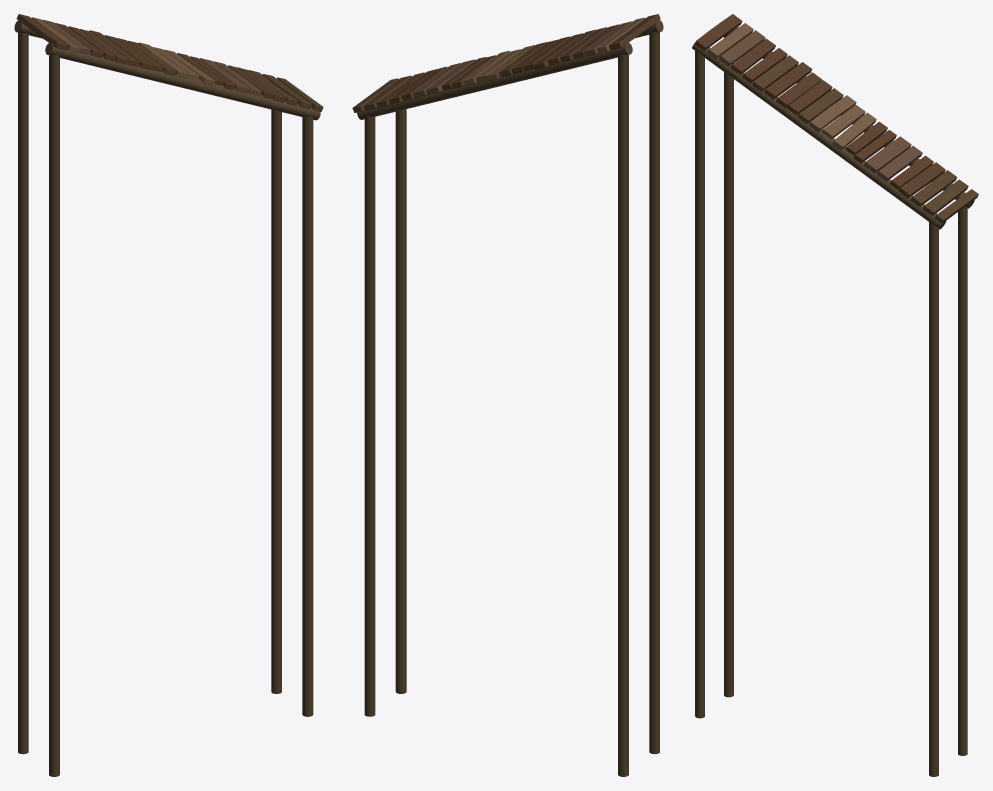
File: DownHillRamp (1).fbx
The picture shows the model from 3 angles, left to right: view 1: azimuth 30°, elevation 25°; view 2: azimuth 150°, elevation 25°; view 3: azimuth 330°, elevation 25°; orthographic projection. The views are drawn at different scales.
Parts seen in each view (by area): view 1: Cylinder.002, Planks; view 2: Cylinder.002, Planks; view 3: Cylinder.002, Planks.
Part boxes in pixels (x1,y1,x2,y2): Cylinder.002: (14, 20, 320, 776); Planks: (16, 14, 323, 111); Cylinder.002: (357, 20, 663, 776); Planks: (352, 14, 660, 112); Cylinder.002: (692, 26, 974, 776); Planks: (695, 14, 978, 223).
Size of the model in its own units: 713 by 1832 by 189.
